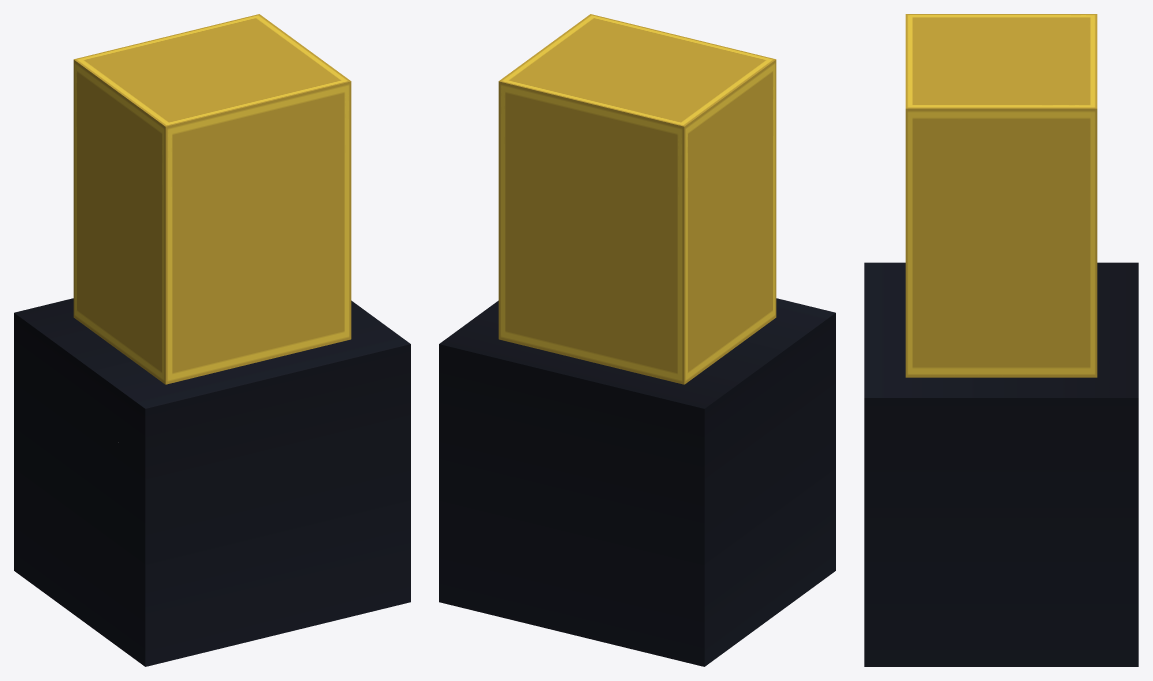
Rendered from PRP_Throne.glb.
The picture shows the model from 3 angles, left to right: view 1: azimuth 30°, elevation 25°; view 2: azimuth 150°, elevation 25°; view 3: azimuth 270°, elevation 25°; orthographic projection. The views are drawn at different scales.
Parts seen in each view (by area): view 1: PRP_Throne; view 2: PRP_Throne; view 3: PRP_Throne.
Part boxes in pixels (x1,y1,x2,y2): PRP_Throne: (14, 14, 410, 666); PRP_Throne: (439, 14, 835, 666); PRP_Throne: (864, 14, 1138, 666).
Size of the model in its own units: 1.4 by 2.6 by 1.2.
Materials: 1 (1 with a texture image).
